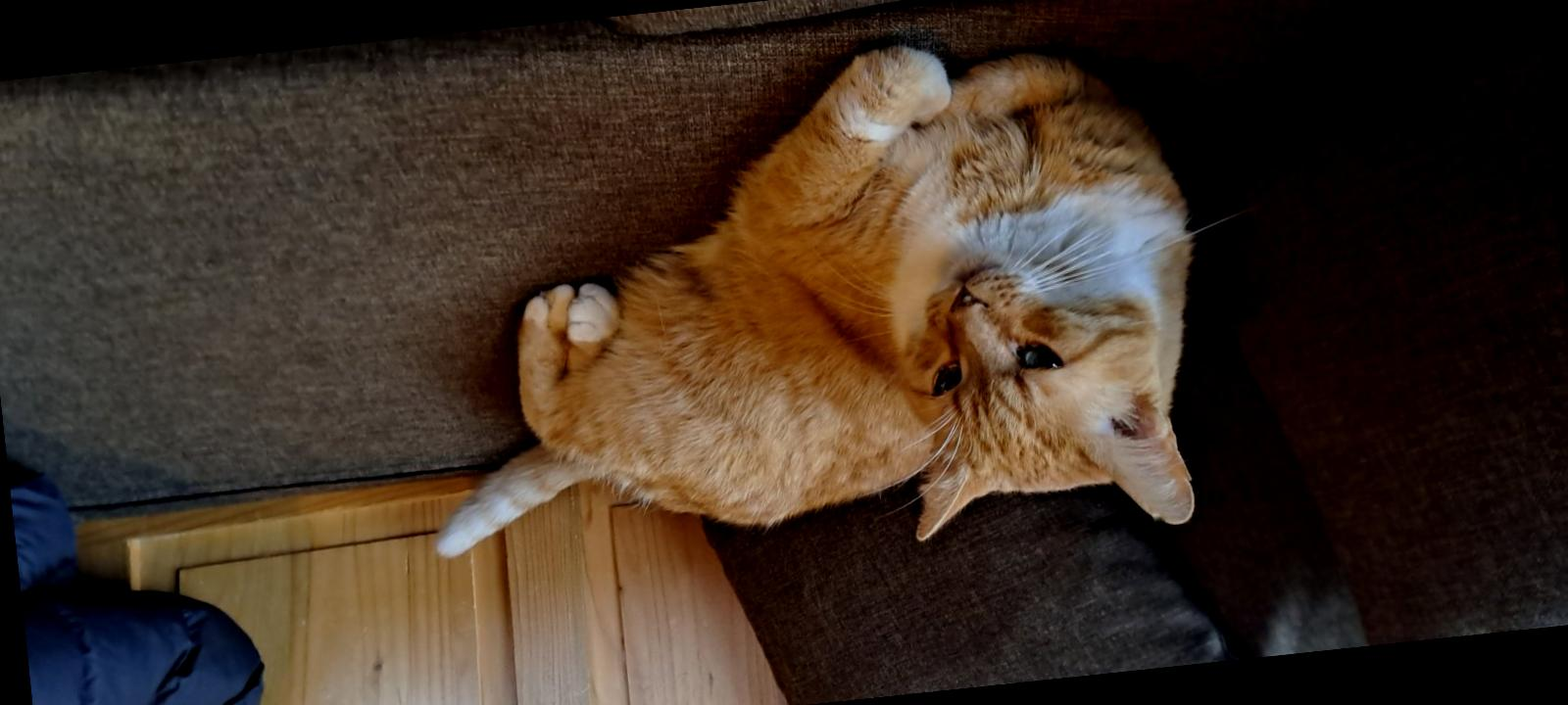macka: (386, 18, 1222, 606)
